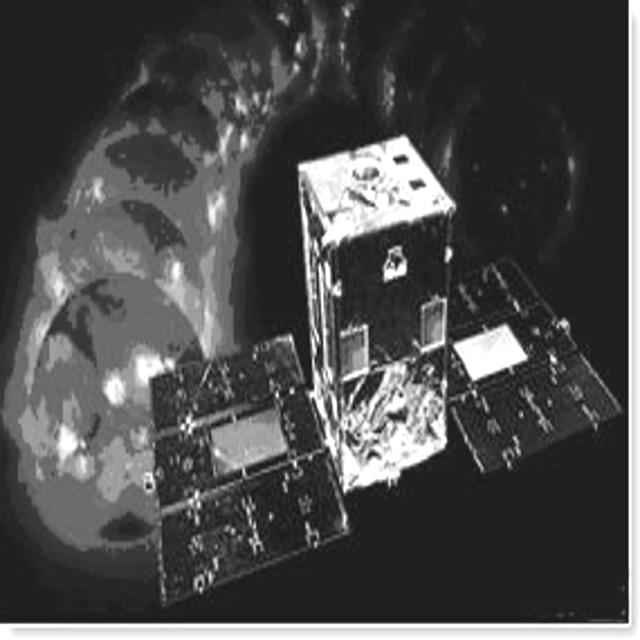satellite: (148, 112, 613, 592)
